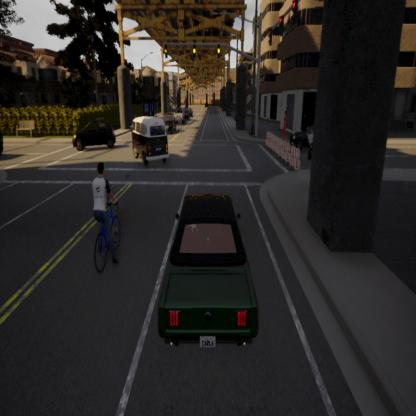Cars: (150, 181, 260, 356), (128, 114, 170, 167), (70, 115, 117, 150), (288, 120, 321, 154), (156, 110, 178, 138), (172, 107, 188, 127), (184, 106, 194, 120)
Pedestrian: (279, 110, 292, 144)
